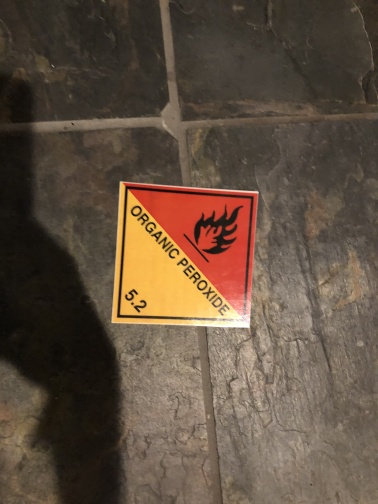OrganicPeroxide: (112, 181, 258, 328)
